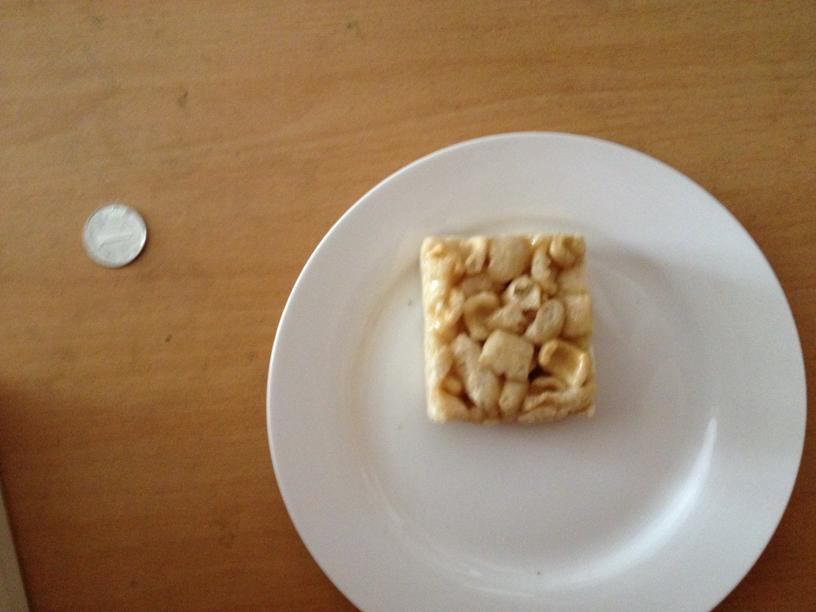coin: (83, 200, 145, 267)
sachima: (413, 232, 597, 422)
